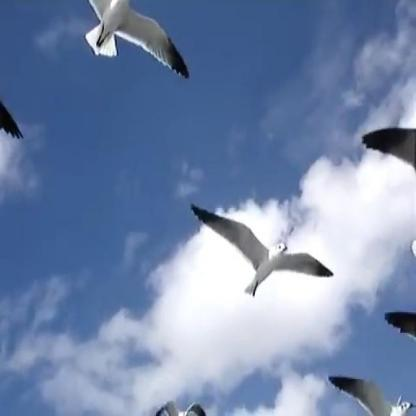bird: (191, 204, 328, 317), (61, 0, 204, 75), (322, 368, 416, 416), (148, 394, 216, 416)
